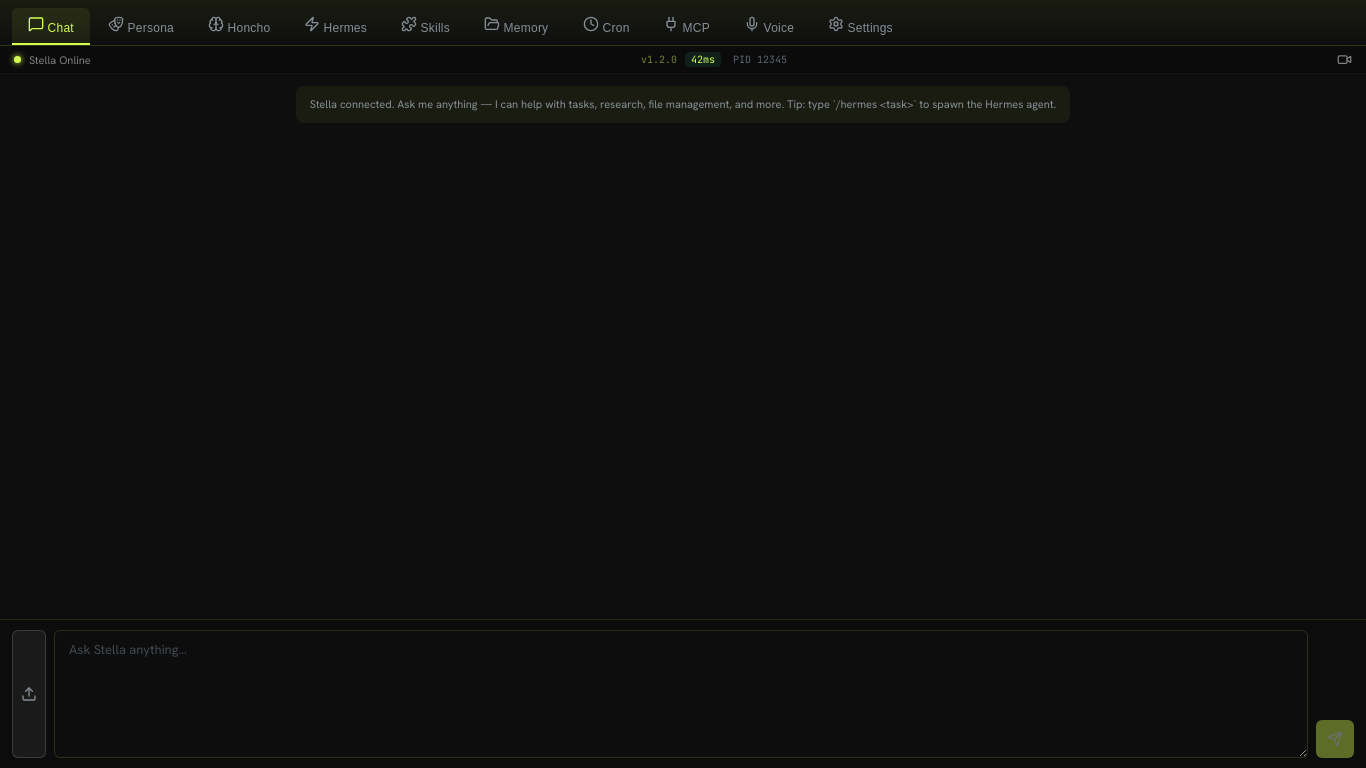
StellaAgent › switches to Skills tab and shows skills
Expected: the text "Stella Online" is shown, left=29, top=52, right=91, bottom=66
Click the button "Skills" at (426, 26), box left=385, top=8, right=466, bottom=45
(page scrolled)
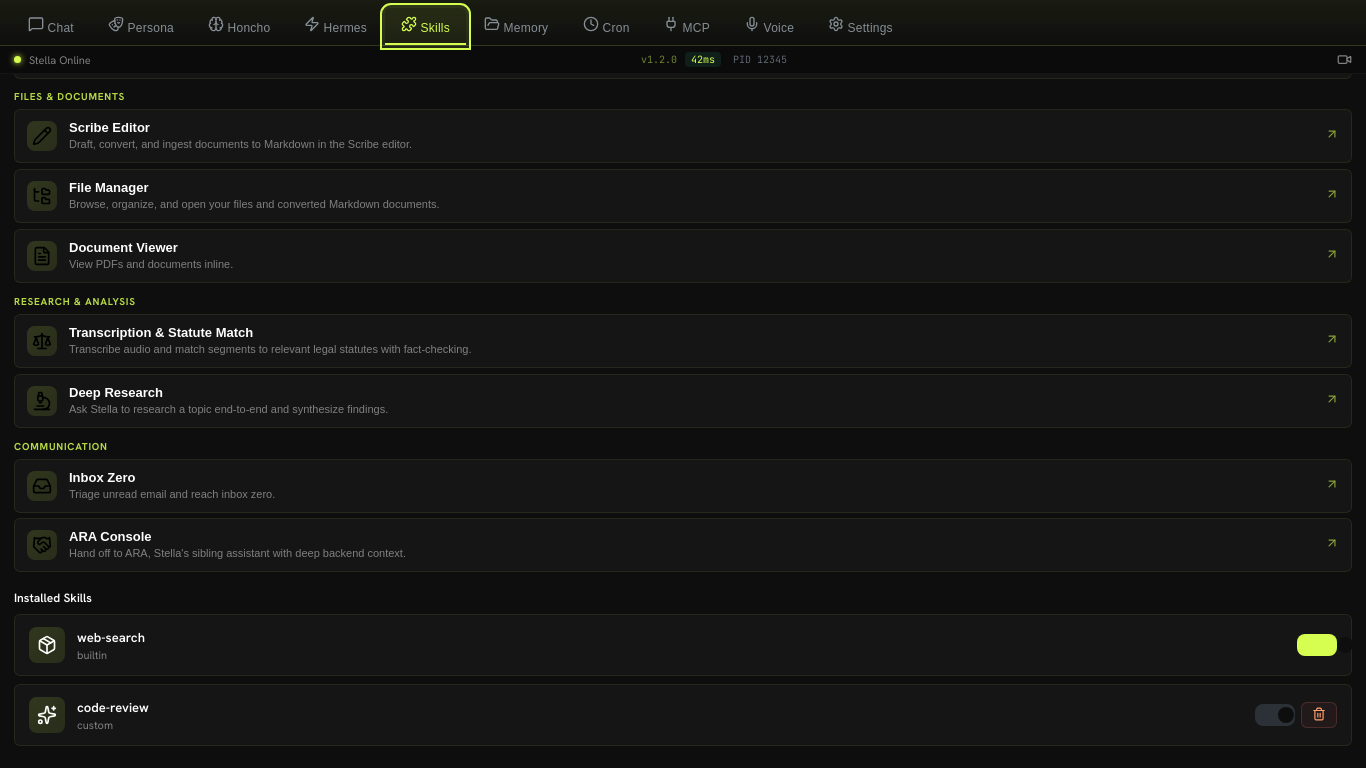
Now the text "web-search" is shown, box left=77, top=629, right=145, bottom=646
Now the text "code-review" is shown, box left=77, top=699, right=149, bottom=716
